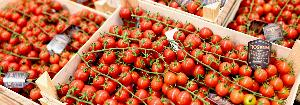tomato: (61, 6, 295, 105), (0, 0, 110, 96), (228, 1, 300, 46)
